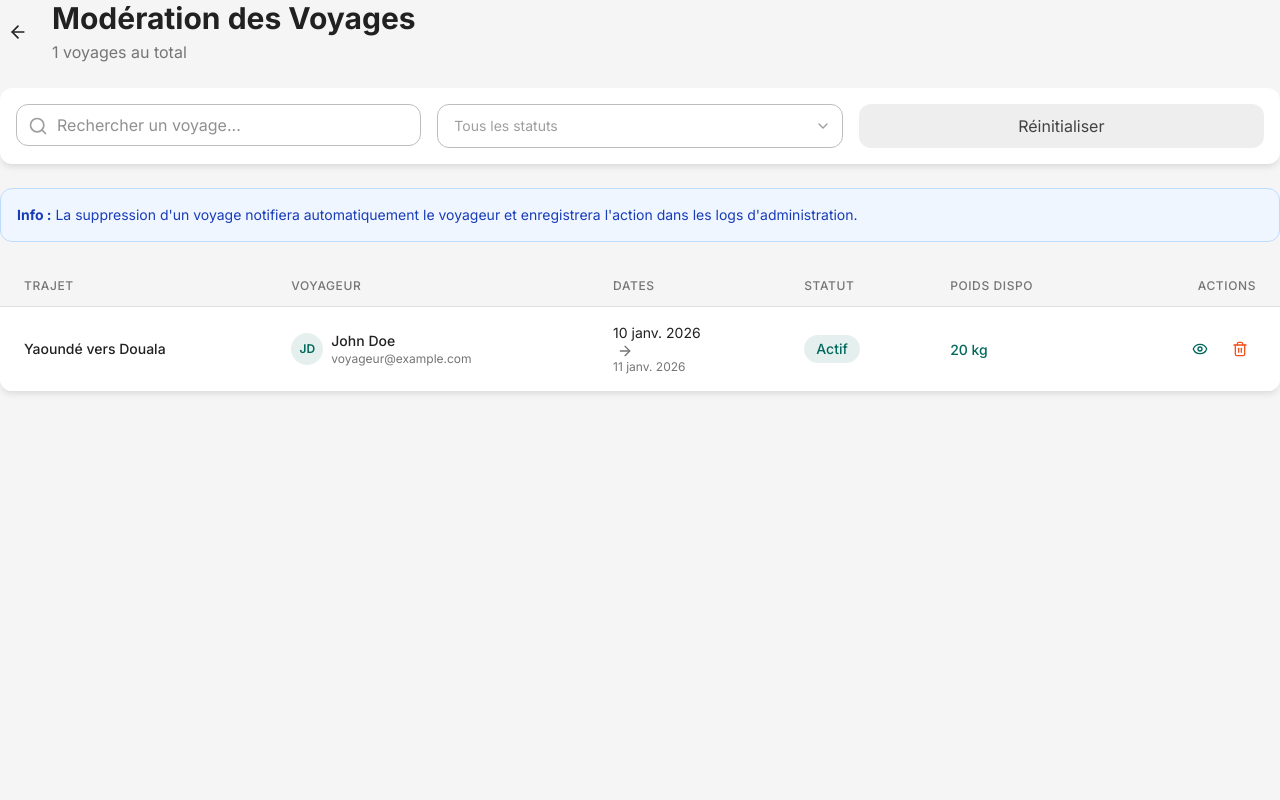
Test case: clients/admin/voyages-client - logique metier › ouvre la modale de suppression et rafraichit la liste apres succes
The image size is (1280, 800).
Click the button named "supprimer" at (1240, 349), box [1224,333,1256,365]
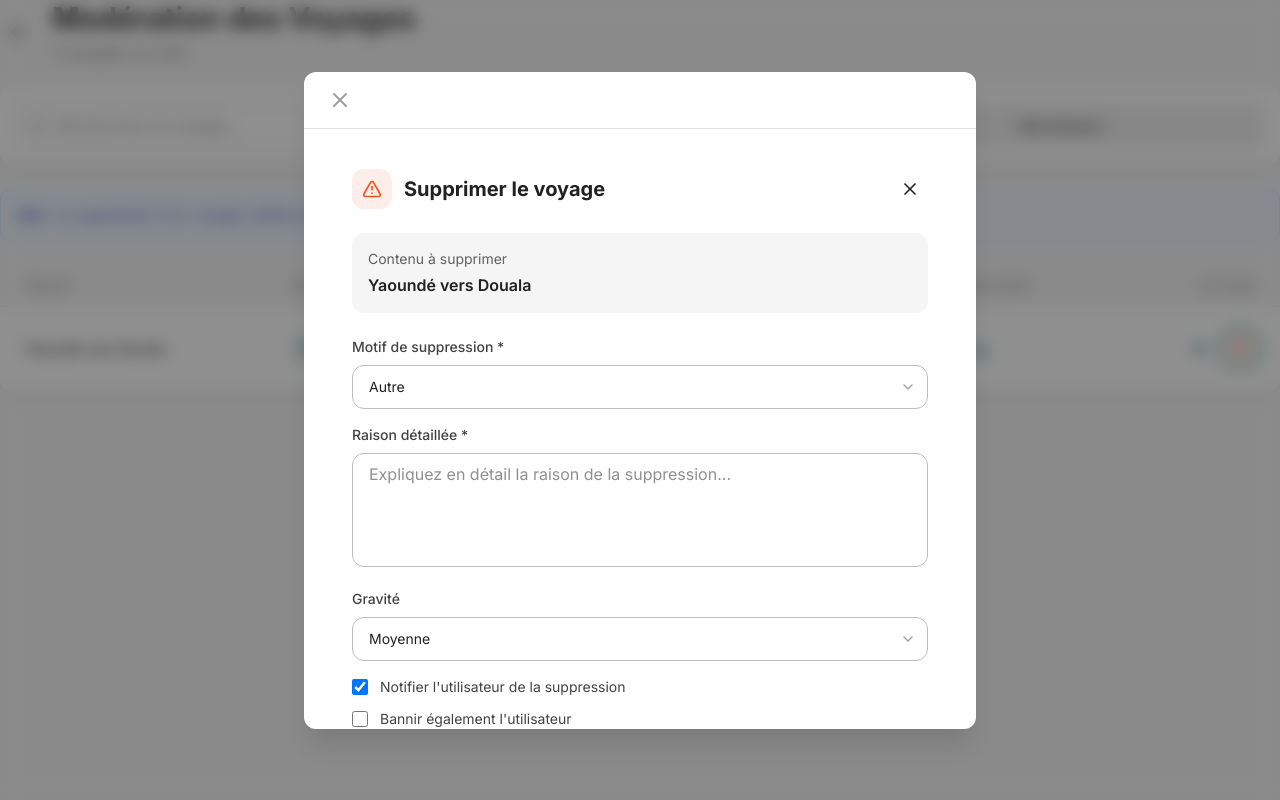
expect the heading "Supprimer le voyage" is shown: met, box [404,174,605,202]
